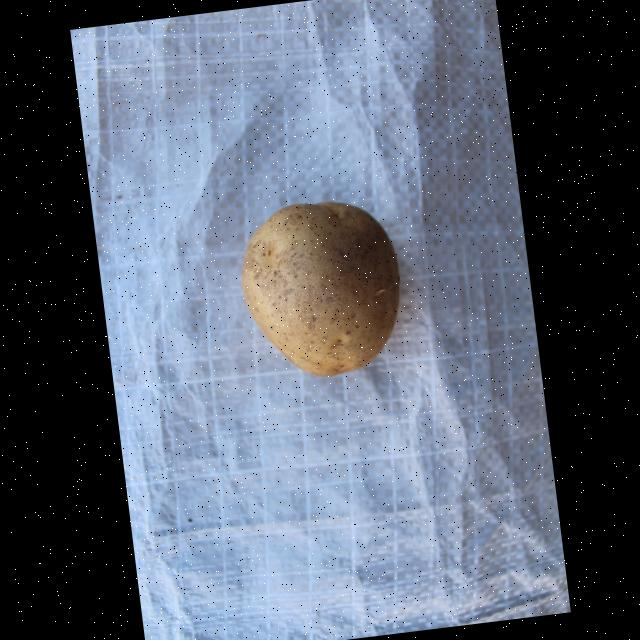Diseased-fungal potato: (230, 188, 416, 386)
